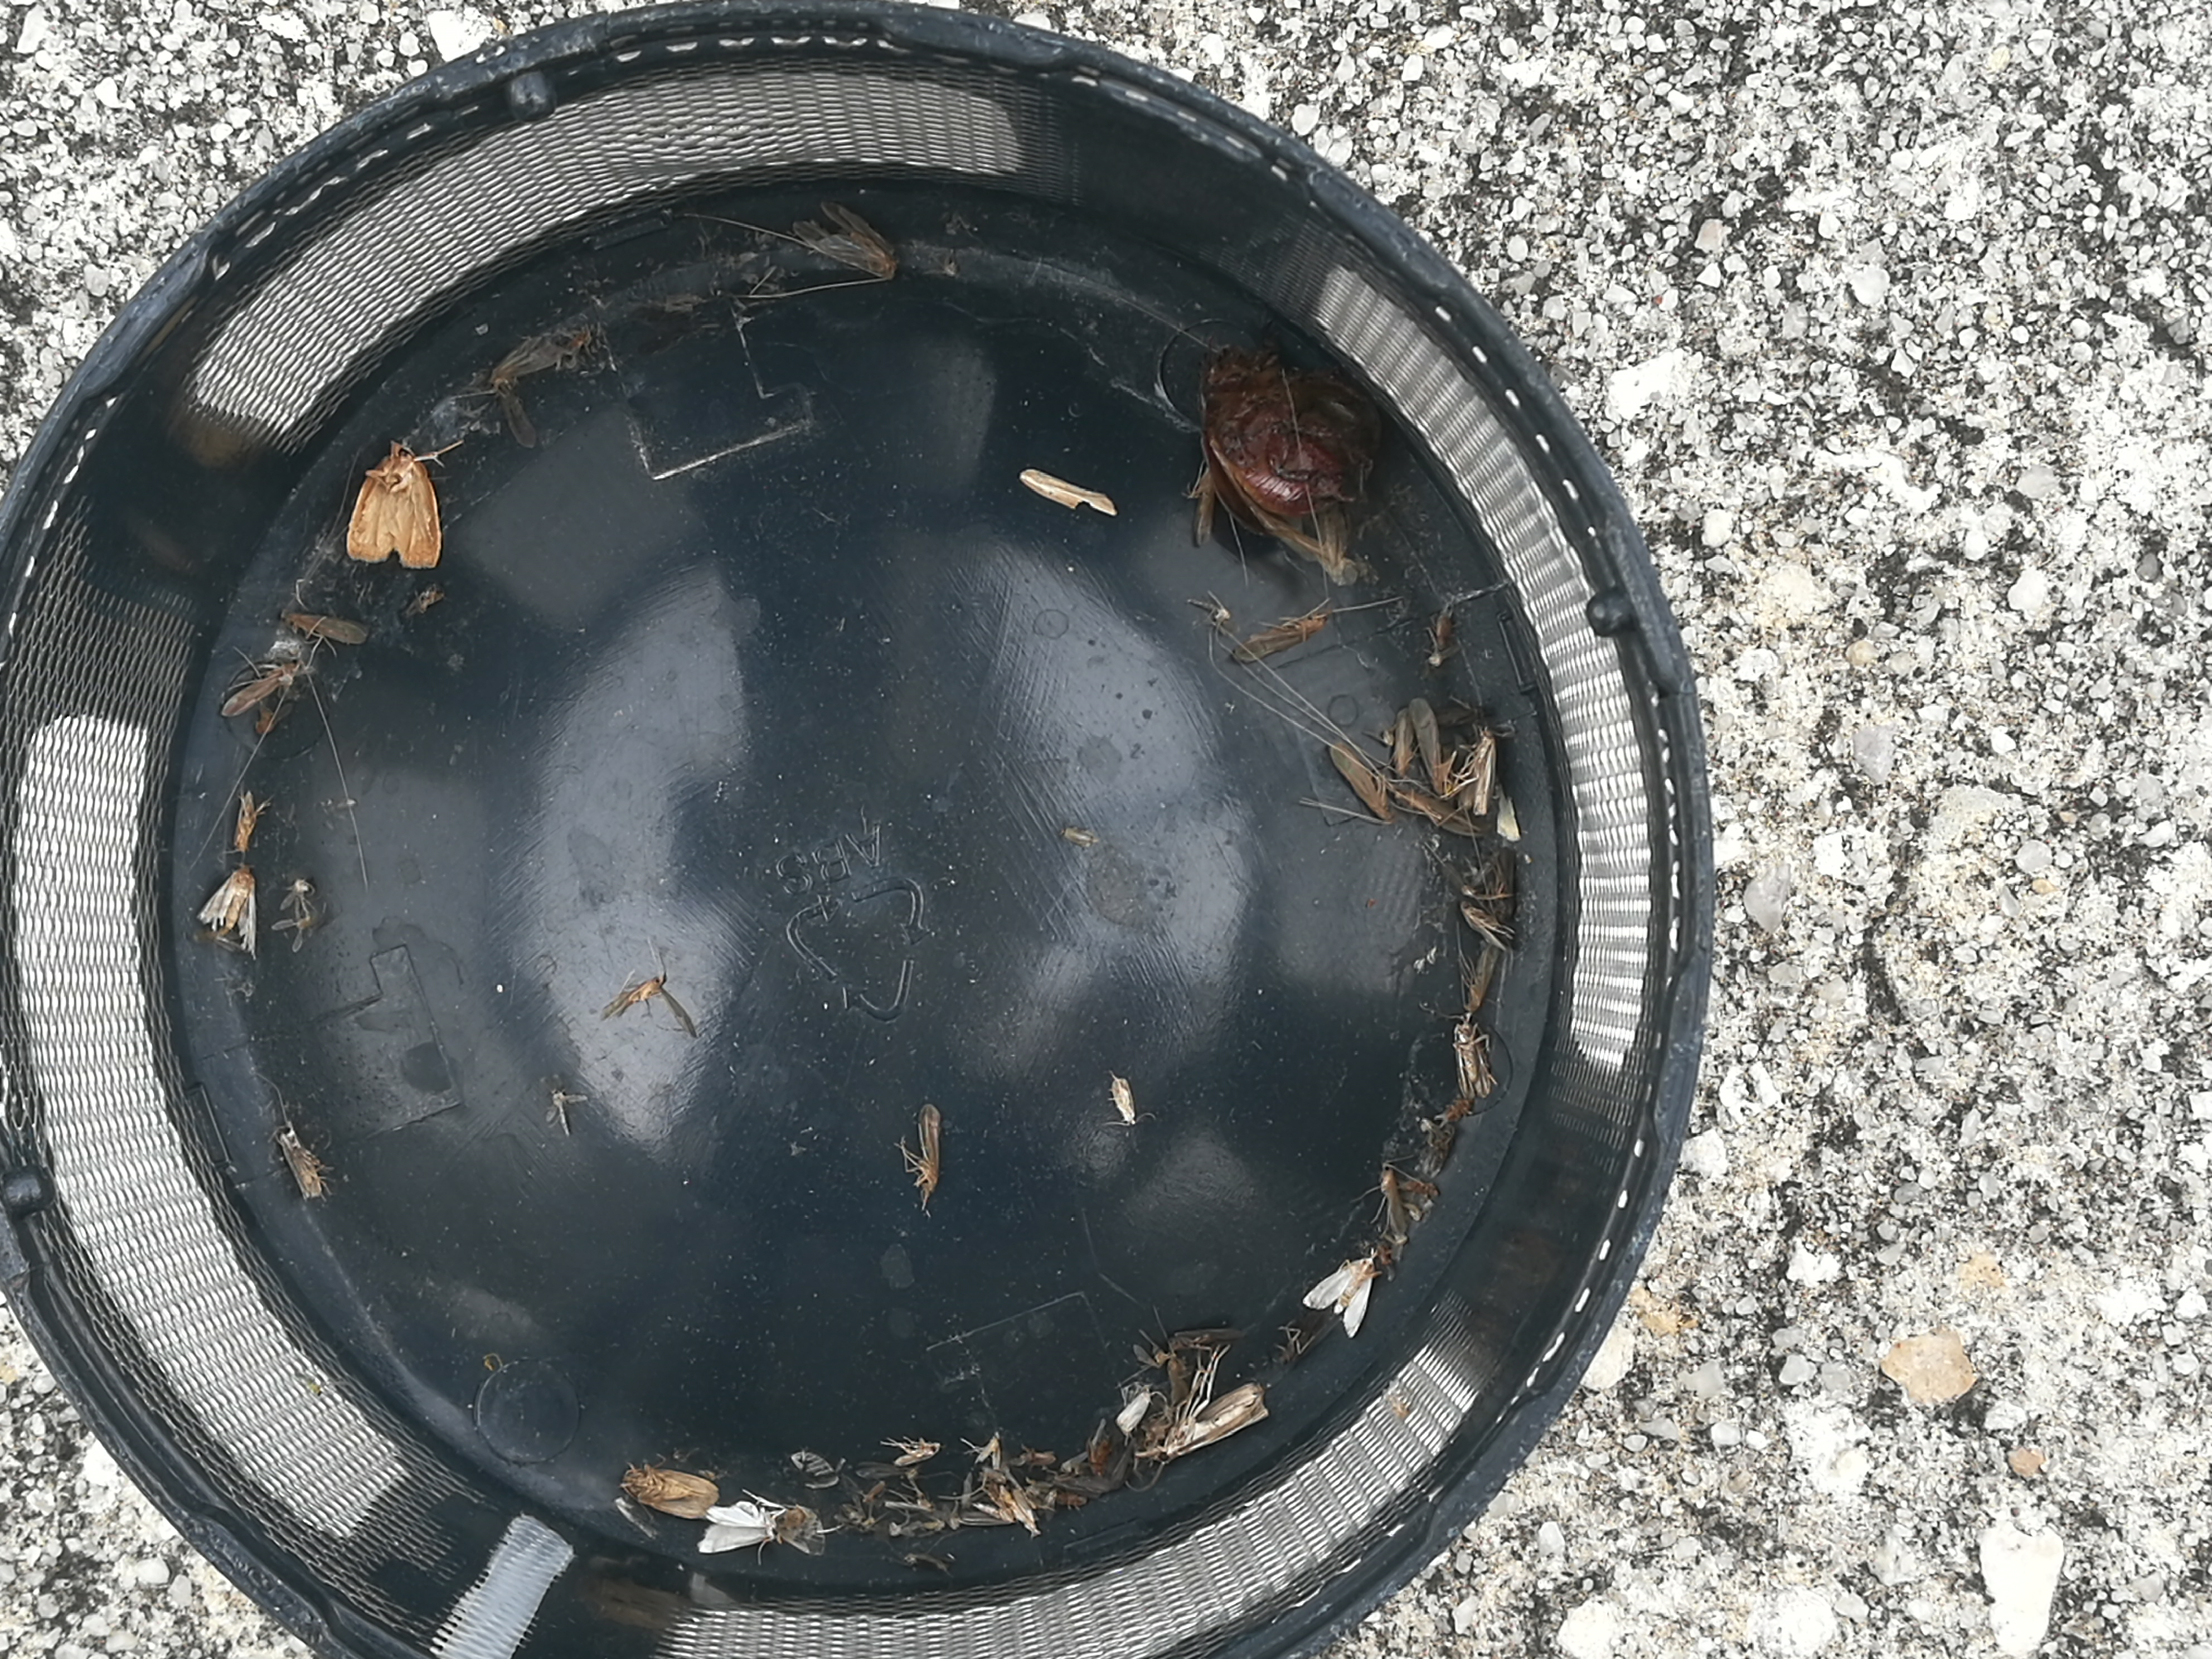beetle: (1207, 350, 1378, 518)
mosquito: (1157, 1385, 1270, 1464), (1331, 741, 1392, 826), (1231, 610, 1327, 662), (218, 659, 301, 718), (1399, 788, 1487, 838), (1413, 697, 1451, 796), (277, 1126, 317, 1199), (282, 612, 366, 647), (1454, 1025, 1491, 1101), (1460, 903, 1514, 946), (1467, 946, 1496, 1014), (1379, 1161, 1404, 1243), (916, 1108, 937, 1192), (1474, 732, 1494, 810), (1392, 711, 1414, 779), (235, 789, 256, 850), (897, 1441, 941, 1462)
moth: (345, 448, 441, 566), (794, 200, 895, 279), (489, 338, 561, 444), (1303, 1260, 1374, 1338), (624, 1466, 718, 1520), (200, 868, 256, 950), (698, 1504, 775, 1553)
